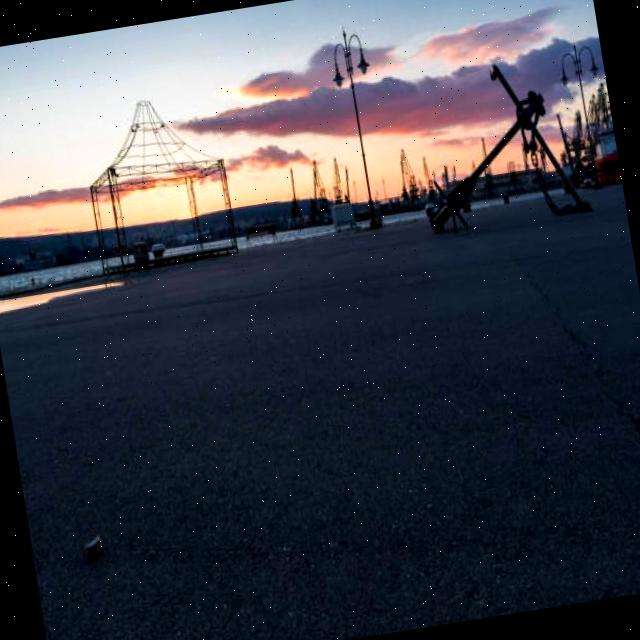Broken Pole: (419, 58, 598, 238)
